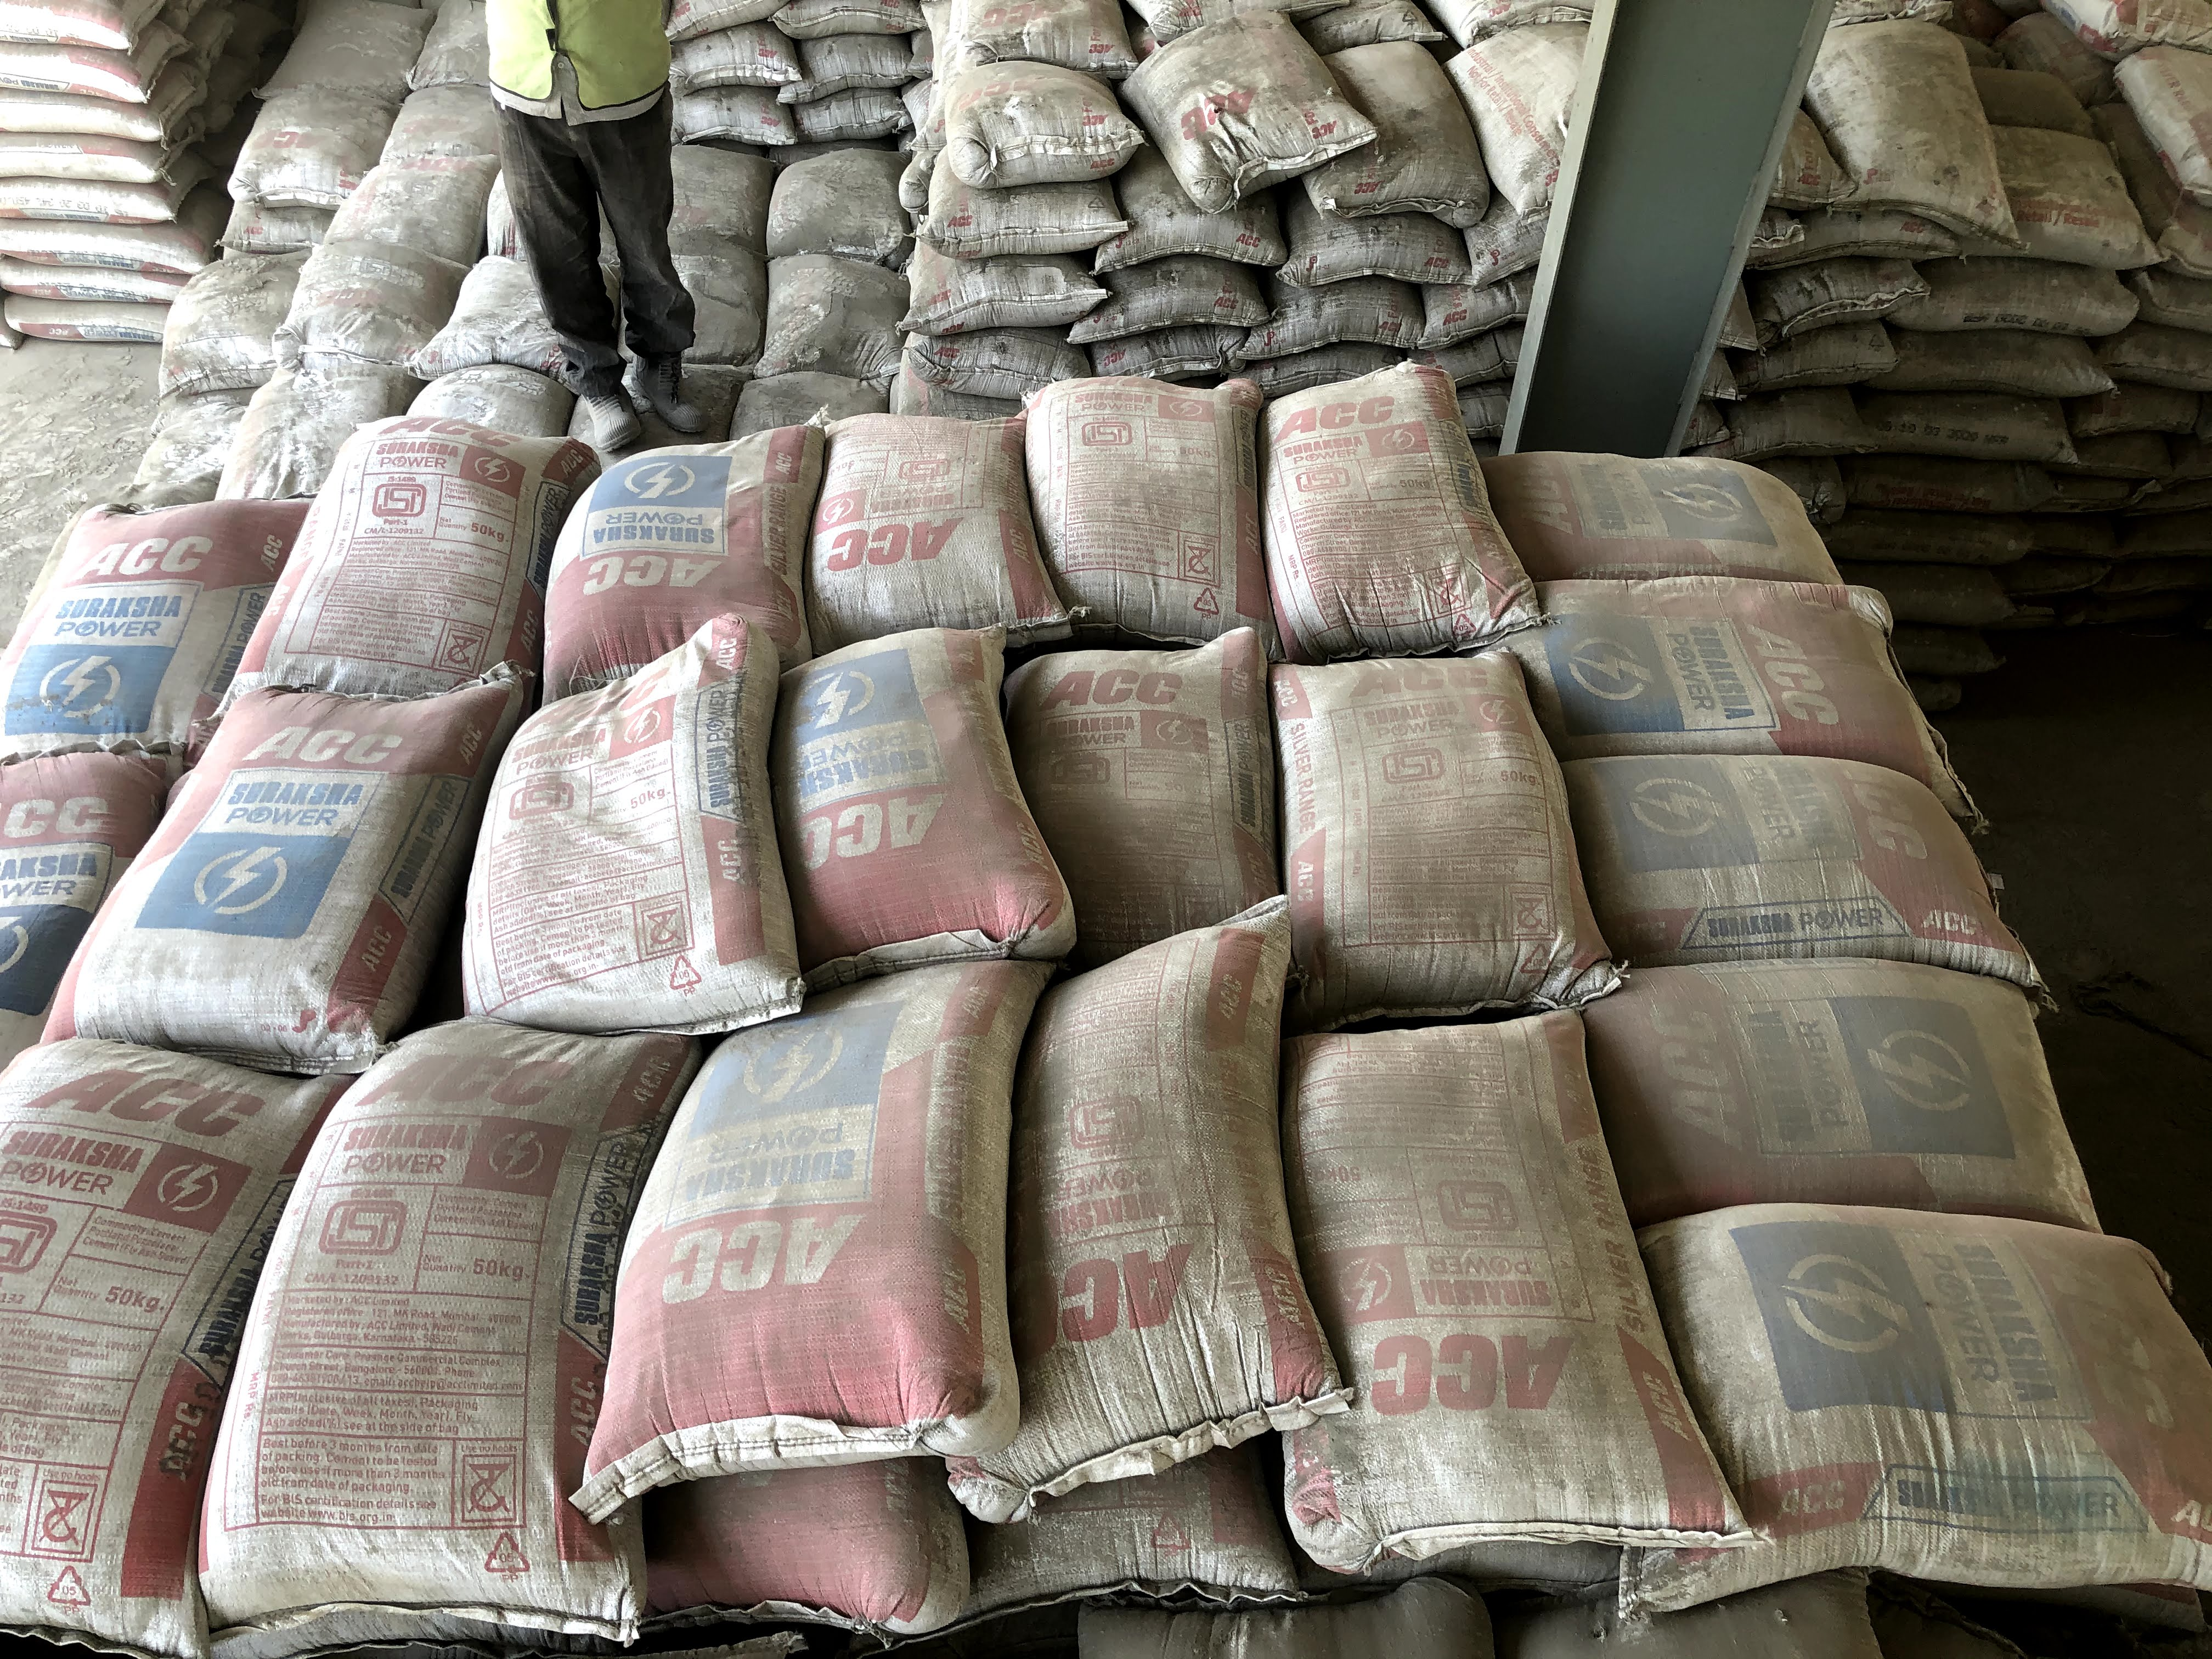cement bag: (1271, 1009, 1709, 1598), (226, 1006, 631, 1617), (1710, 1220, 2196, 1530), (986, 941, 1275, 1462), (73, 699, 503, 1023), (669, 1032, 986, 1462), (1604, 971, 2111, 1234), (7, 1037, 226, 1617), (1022, 664, 1299, 1044), (1299, 652, 1552, 1044), (1604, 751, 1993, 971), (279, 375, 542, 697), (542, 389, 812, 697), (1263, 368, 1552, 652), (503, 699, 789, 985), (1524, 580, 1991, 751), (789, 664, 1022, 985), (812, 389, 1055, 631), (1055, 368, 1263, 631), (1524, 450, 1844, 580)
